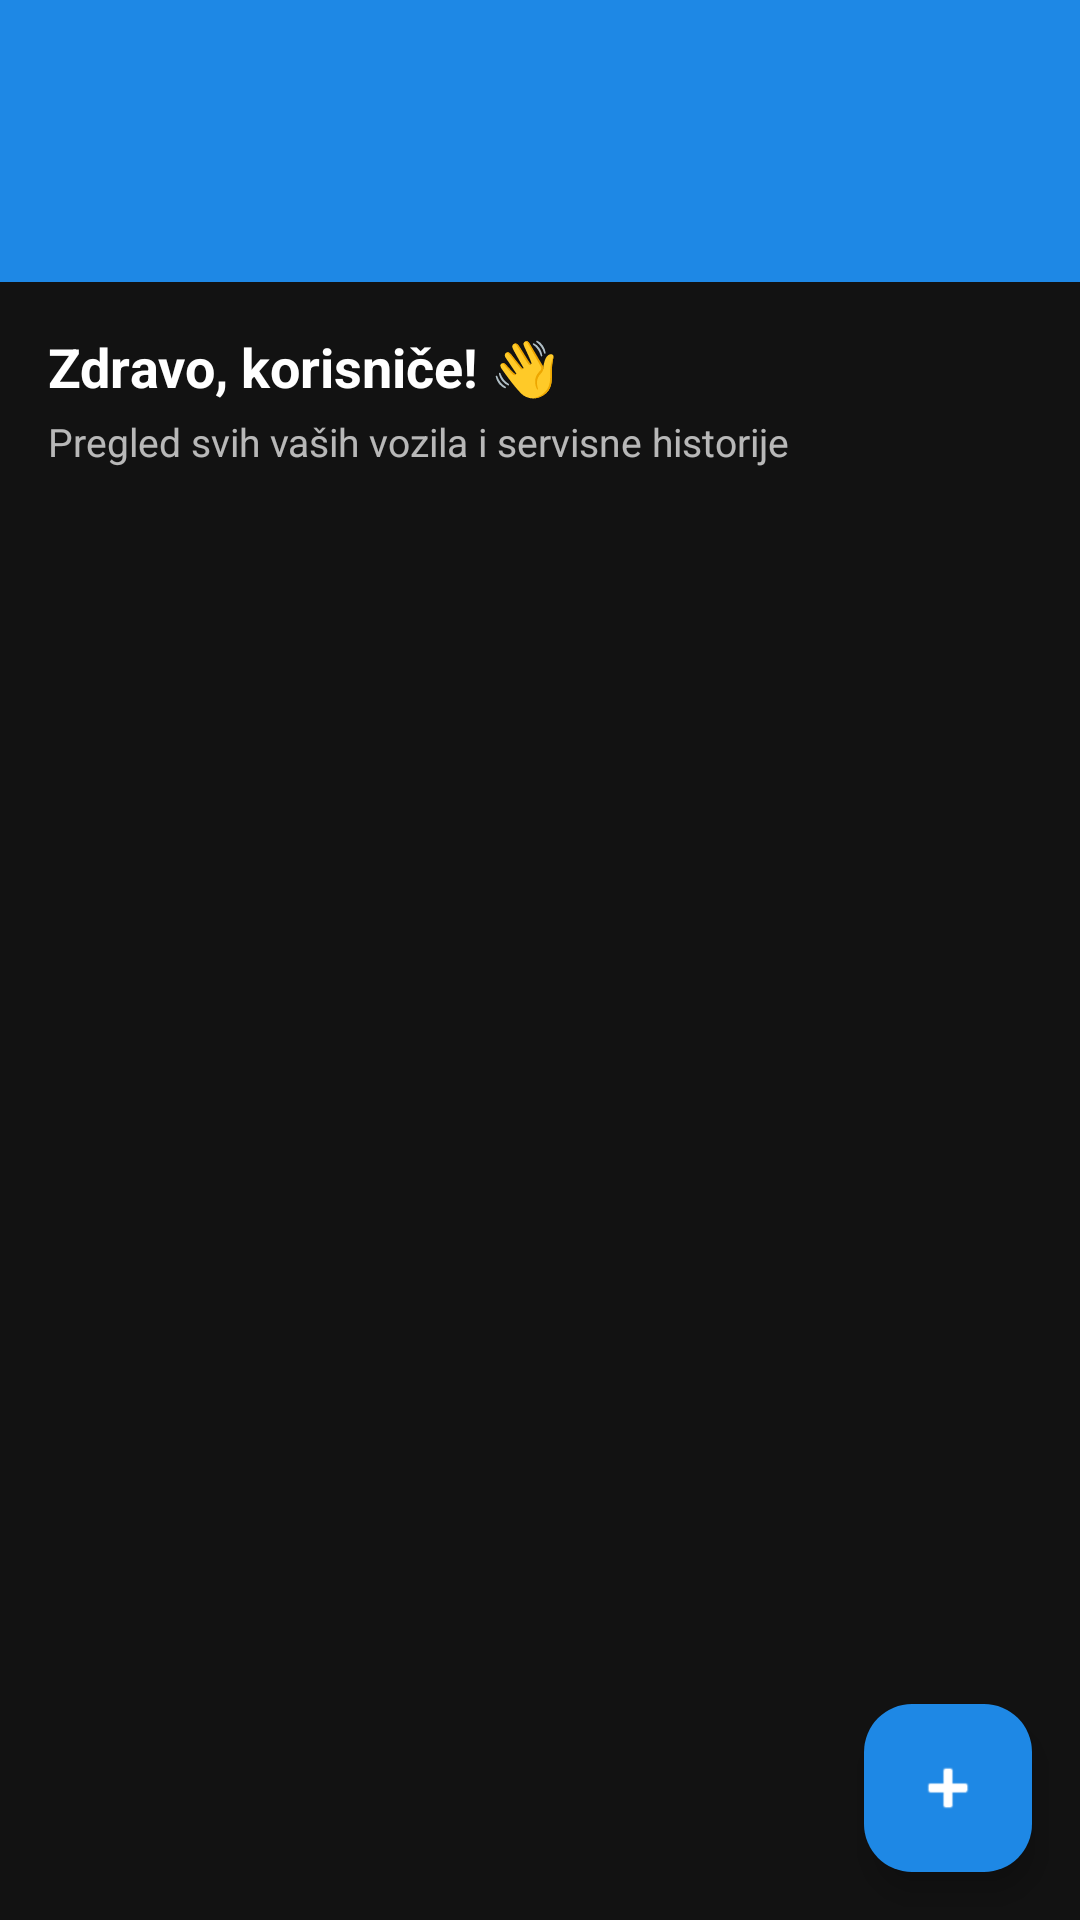

Screen size 1080px×1920px. Icon name, then its box in pixels as bbox=(x1, y1, x2, y2):
Dodaj vozilo: bbox=(864, 1704, 1032, 1872)
